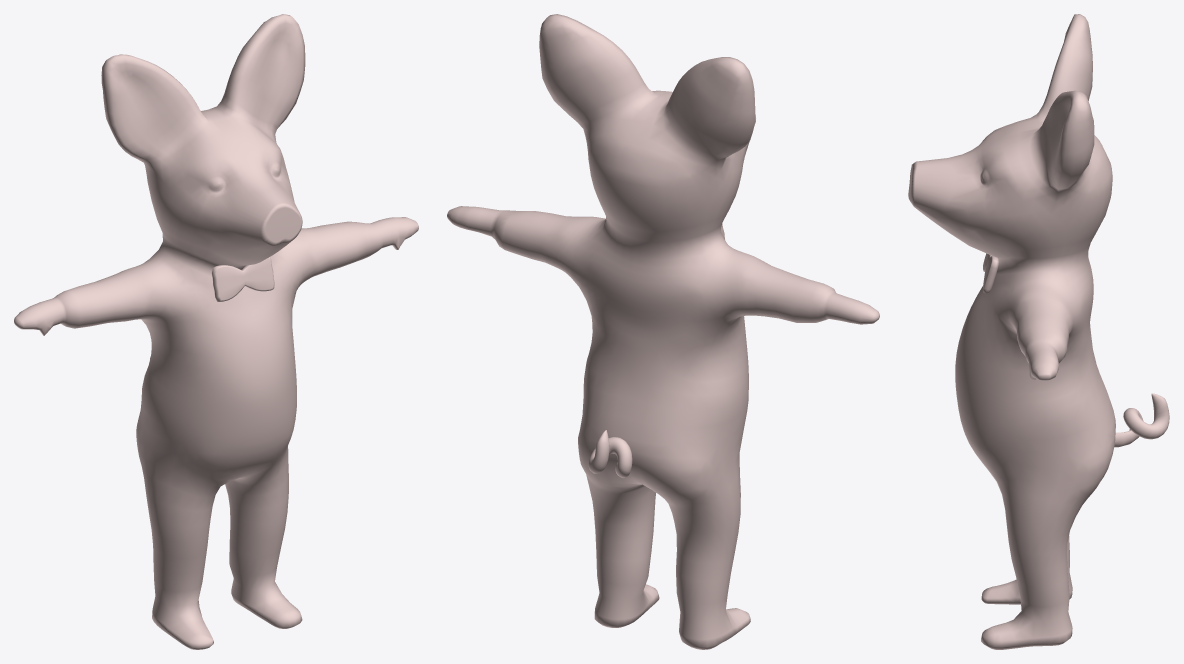
Rendered from Piggy_Skin.fbx.
3 renders of one model, left to right at view 1: azimuth 30°, elevation 25°; view 2: azimuth 150°, elevation 25°; view 3: azimuth 270°, elevation 25°, orthographic. The views are drawn at different scales.
Parts seen in each view (by area): view 1: PiggySkin1; view 2: PiggySkin1; view 3: PiggySkin1.
Part boxes in pixels (<box>): PiggySkin1: <box>14,14,418,649</box>; PiggySkin1: <box>447,14,879,649</box>; PiggySkin1: <box>908,14,1169,649</box>.
Bounding box in the file's own units: 1.23 × 1.67 × 0.6943.
